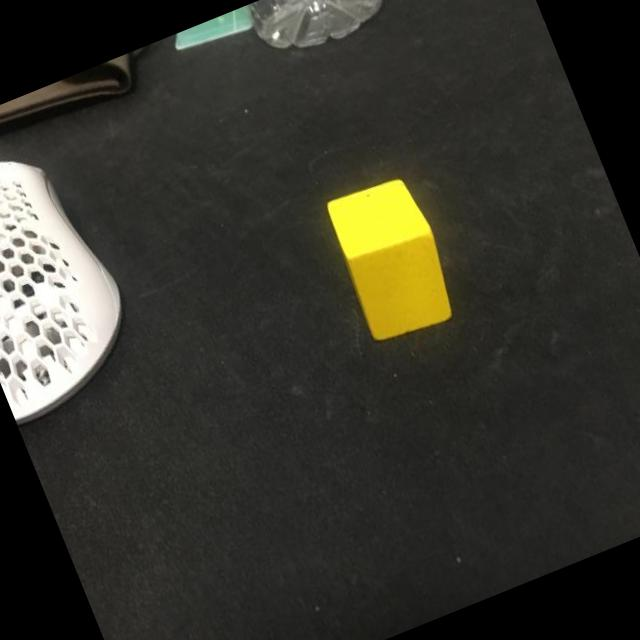yellow: (317, 167, 466, 350)
